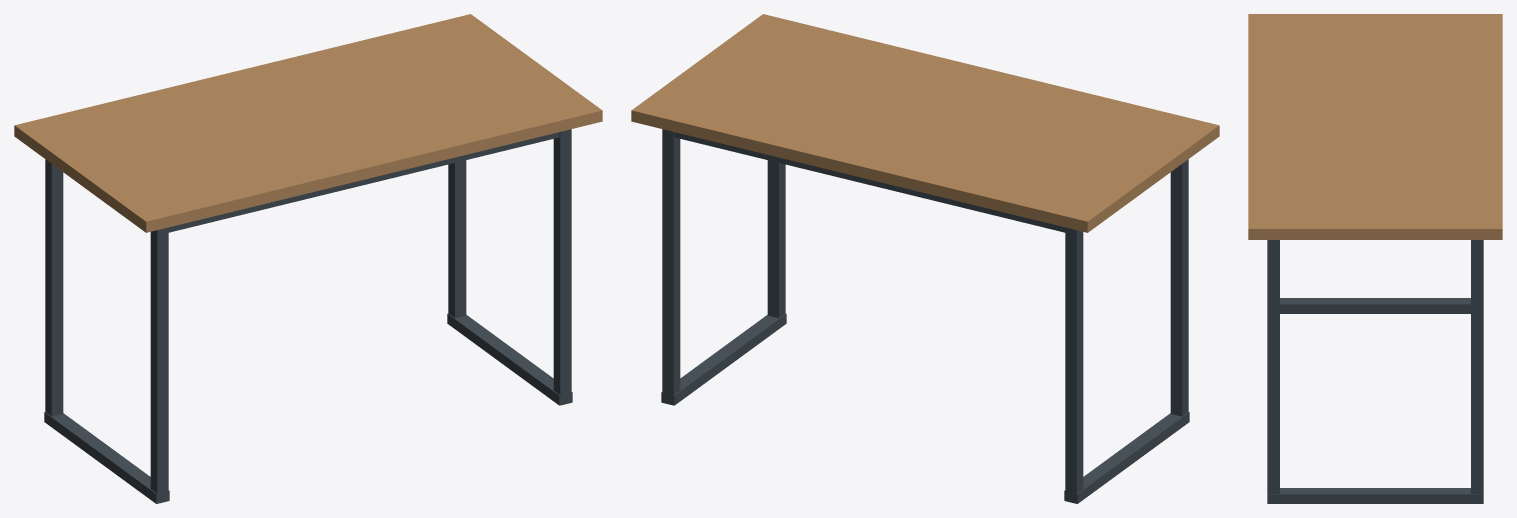
The model's file is workDesk-1.glb.
The picture shows the model from 3 angles, left to right: view 1: azimuth 30°, elevation 25°; view 2: azimuth 150°, elevation 25°; view 3: azimuth 270°, elevation 25°; orthographic projection. The views are drawn at different scales.
Visible parts, largest first — view 1: workDesk:1:editor; view 2: workDesk:1:editor; view 3: workDesk:1:editor.
Part boxes in pixels (x1,y1,x2,y2): workDesk:1:editor: [14, 14, 602, 503]; workDesk:1:editor: [631, 14, 1219, 503]; workDesk:1:editor: [1248, 14, 1502, 503].
Bounding box in the file's own units: 1.2 × 0.74 × 0.6.
